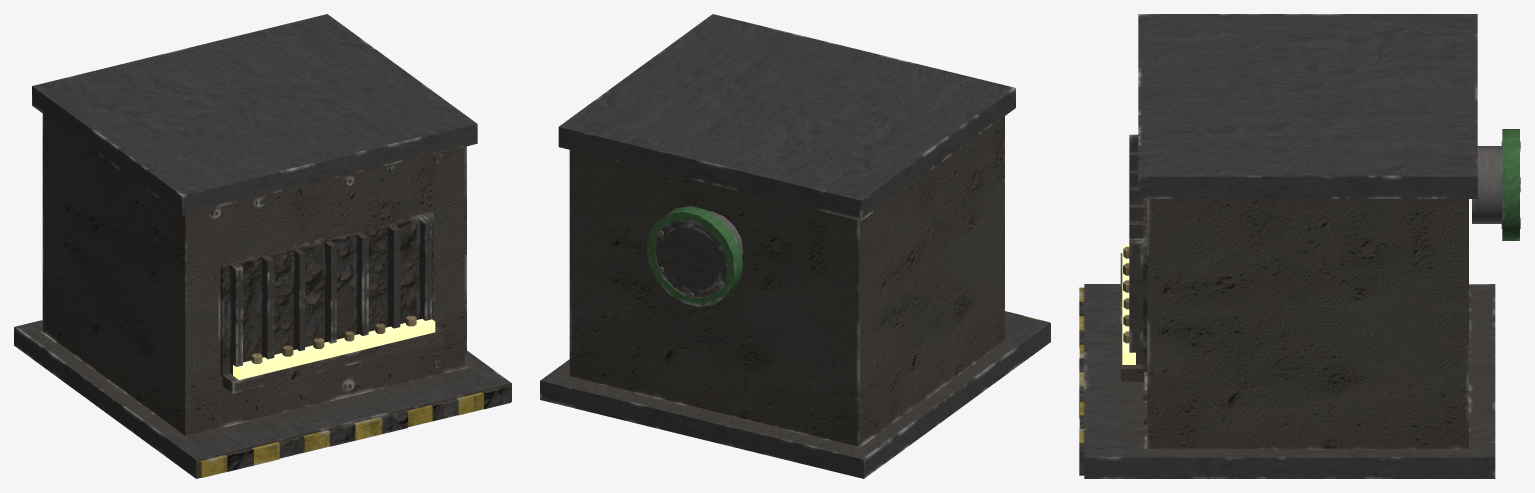
File: feGasBurner_HD.fbx
3 views of the same model, side by side, from view 1: azimuth 30°, elevation 25°; view 2: azimuth 150°, elevation 25°; view 3: azimuth 270°, elevation 25° (orthographic). The views are drawn at different scales.
Parts seen in each view (by area): view 1: feGasBurner_Base; view 2: feGasBurner_Base; view 3: feGasBurner_Base.
Part boxes in pixels (x1,y1,x2,y2): feGasBurner_Base: [14, 14, 511, 478]; feGasBurner_Base: [540, 14, 1050, 478]; feGasBurner_Base: [1079, 14, 1520, 478].
Size of the model in its own units: 0.9012 by 0.7174 by 0.9675.
2 materials, 1 textured.
